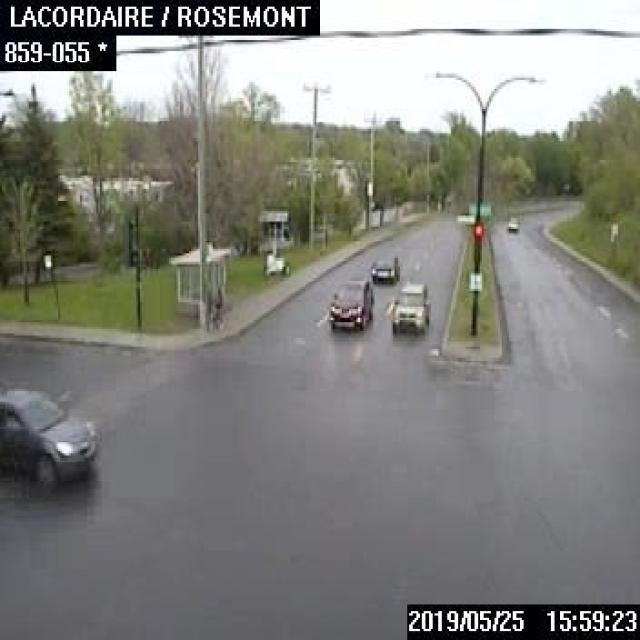construction: (257, 208, 291, 274)
pedestrian: (212, 285, 222, 328)
vehicle: (0, 386, 96, 486), (327, 279, 373, 328), (389, 282, 428, 334), (371, 252, 398, 282), (506, 214, 518, 230)
